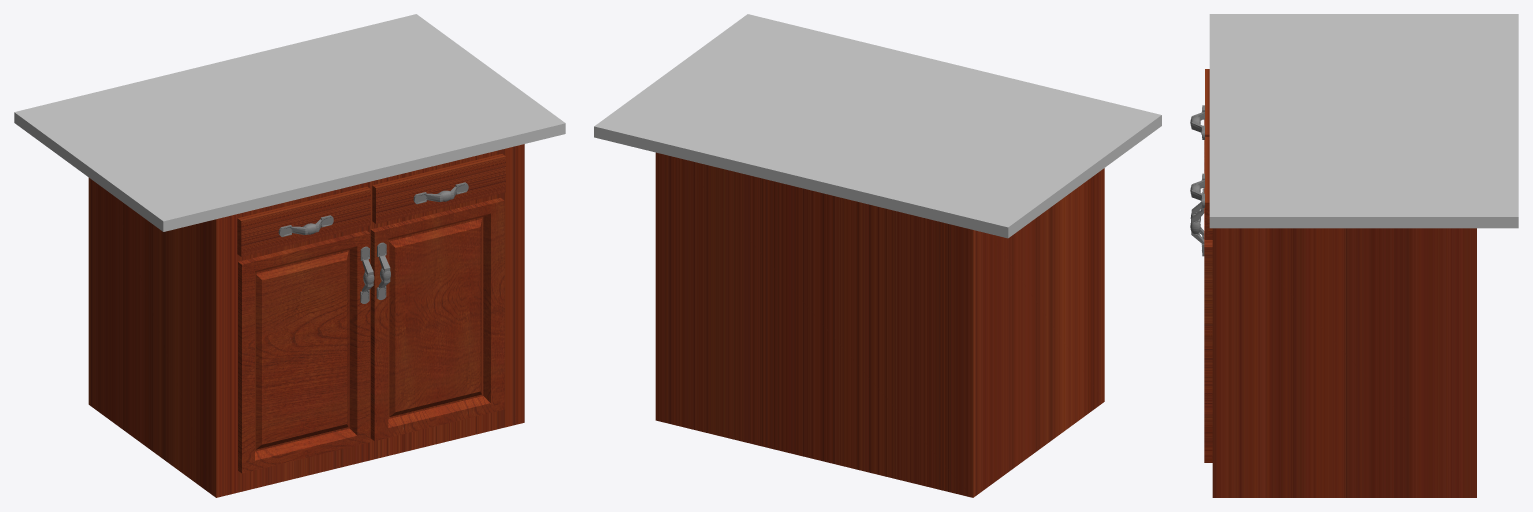
The model's file is isla.obj.
3 renders of one model, left to right at view 1: azimuth 30°, elevation 25°; view 2: azimuth 150°, elevation 25°; view 3: azimuth 270°, elevation 25°, orthographic. The views are drawn at different scales.
Visible parts, largest first — view 1: PolyMesh_6.002, PolyMesh_4.002, PolyMesh_1_3.007, PolyMesh_1.006, Cube_3_3.002, Cube_3_2.002; view 2: PolyMesh_4.002, PolyMesh_6.002; view 3: PolyMesh_4.002, PolyMesh_6.002, PolyMesh_1_3.007, Cube_3_3.002.
Boxes of the visible parts, x1,y1,x2,y2 form: PolyMesh_6.002: (14, 14, 565, 231); PolyMesh_4.002: (88, 144, 524, 497); PolyMesh_1_3.007: (370, 198, 504, 441); PolyMesh_1.006: (238, 230, 370, 473); Cube_3_3.002: (372, 154, 505, 223); Cube_3_2.002: (237, 186, 370, 256); PolyMesh_4.002: (655, 152, 1104, 497); PolyMesh_6.002: (594, 14, 1161, 238); PolyMesh_4.002: (1212, 228, 1476, 497); PolyMesh_6.002: (1209, 14, 1518, 228); PolyMesh_1_3.007: (1204, 188, 1212, 462); Cube_3_3.002: (1205, 137, 1212, 239).
Bounding box in the file's own units: 9.47 × 6.54 × 6.46.
